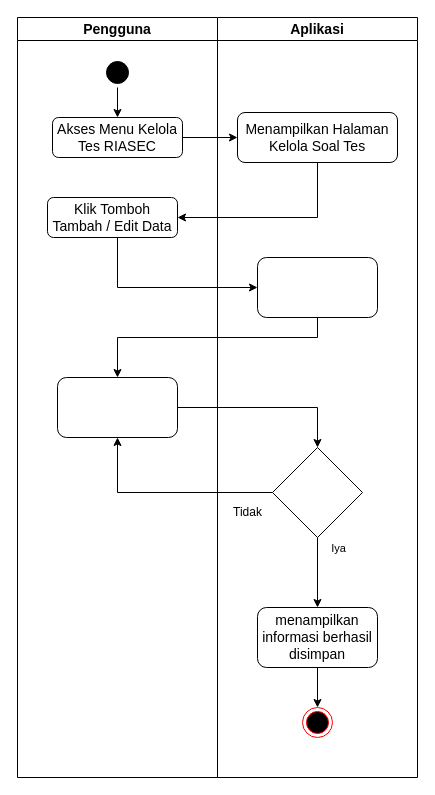
Some shapes in this 435 by 795 pixel diagram are drawn without their labels. Each missing label, with the centre of its shape:
Menampilkan form kelola soal tes: point 317,287
Mengisi form tambah / edit data soal: point 117,407
Validasi data: point 317,492
